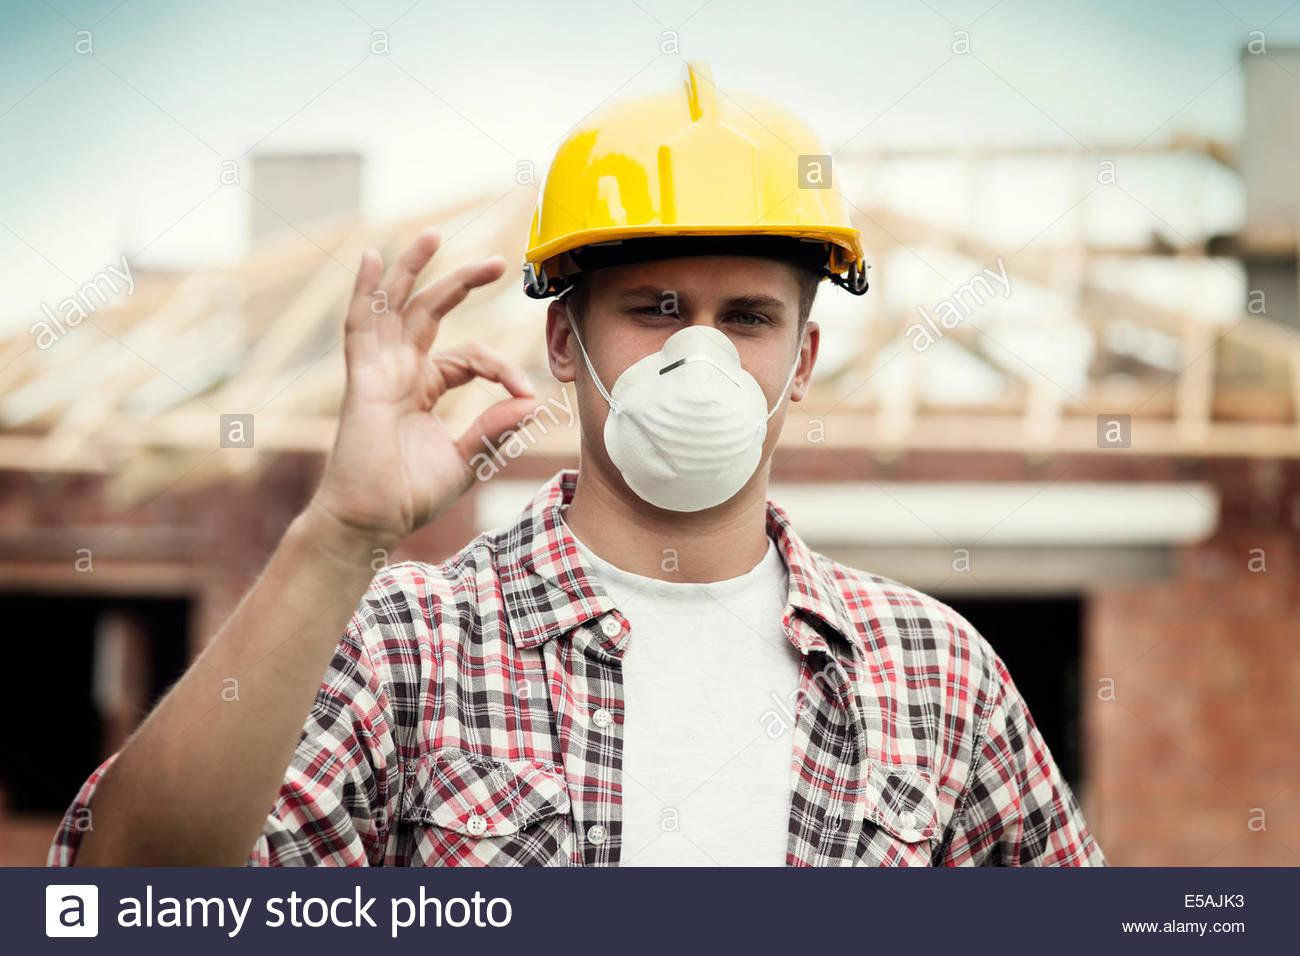helmet: (526, 73, 872, 289)
